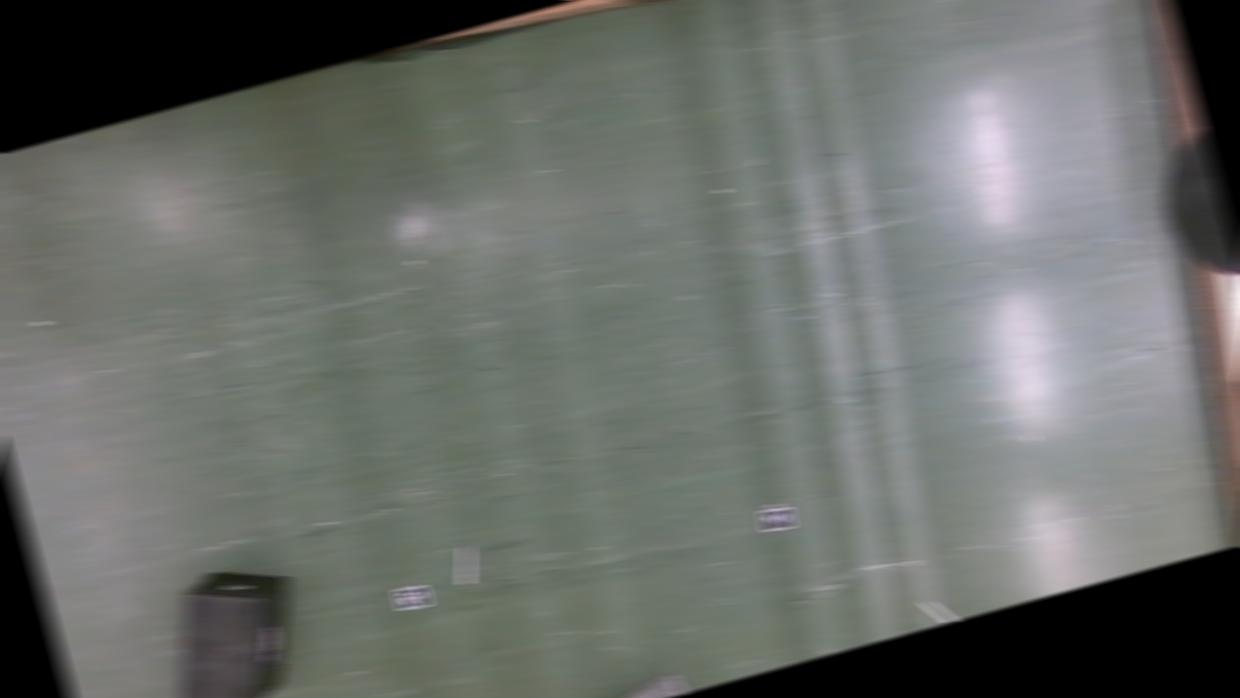probes: (452, 542, 482, 584), (922, 594, 958, 626)
rako: (147, 550, 319, 698)
